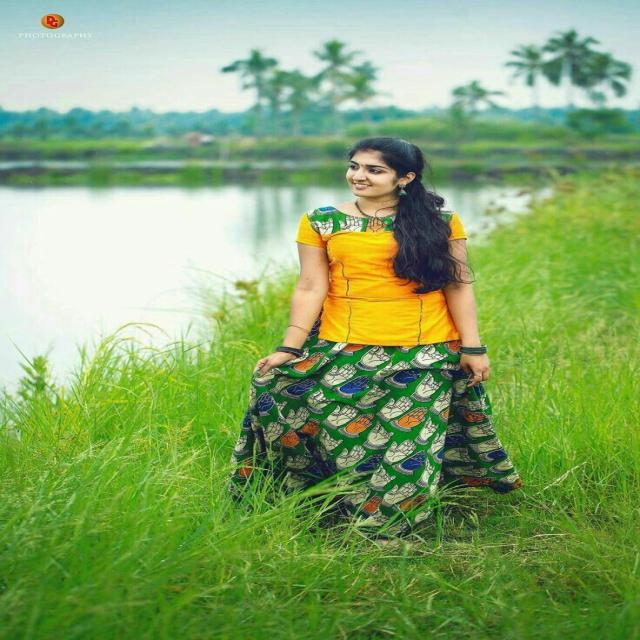female-dress: (277, 201, 520, 525)
